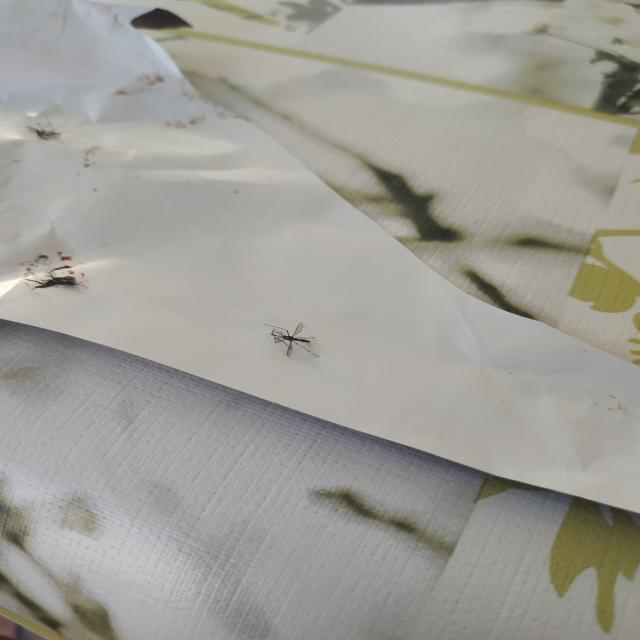albopictus: (261, 319, 321, 358)
